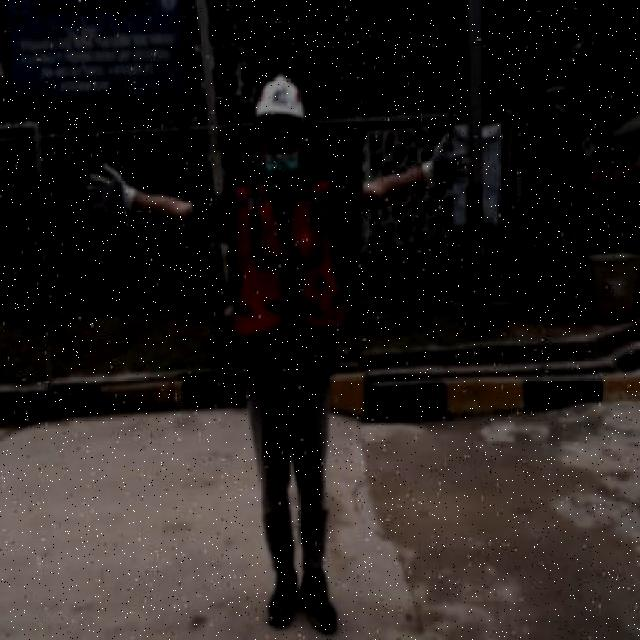Boots: (298, 564, 340, 634), (264, 562, 298, 626)
Gloves: (85, 160, 138, 218), (422, 136, 476, 190)
Helmet: (254, 74, 306, 122)
Mask: (232, 231, 346, 340)
